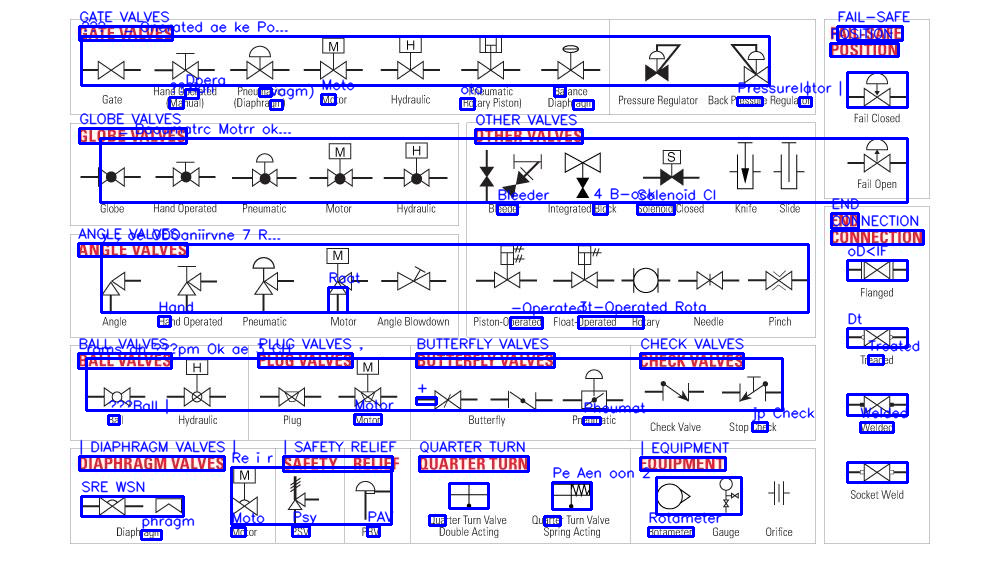Válvula: (382, 140, 449, 191), (472, 241, 539, 292), (307, 140, 374, 190), (165, 355, 228, 408), (336, 357, 399, 409), (551, 243, 616, 293), (323, 244, 370, 313), (301, 34, 365, 82), (458, 35, 522, 82), (378, 35, 442, 81), (563, 368, 626, 412), (640, 147, 702, 190), (250, 255, 295, 314), (230, 151, 298, 190), (845, 136, 910, 176), (227, 44, 292, 82), (846, 70, 908, 109), (539, 44, 603, 81), (501, 151, 546, 200), (561, 148, 604, 199), (175, 264, 219, 313), (152, 159, 220, 189), (379, 264, 449, 293), (726, 139, 763, 193), (153, 50, 217, 81), (720, 374, 786, 404), (285, 473, 322, 526), (771, 140, 807, 194), (729, 42, 772, 86), (227, 465, 261, 520), (746, 265, 810, 294), (100, 270, 143, 313), (353, 476, 393, 520), (415, 387, 480, 414), (78, 164, 144, 190), (79, 58, 144, 84), (676, 268, 741, 294), (79, 493, 145, 518), (644, 42, 683, 84), (845, 258, 910, 283), (489, 388, 556, 412), (620, 266, 673, 296), (843, 325, 909, 349), (84, 385, 149, 409), (642, 380, 707, 404), (258, 385, 323, 408), (845, 394, 909, 416), (845, 461, 909, 483), (448, 480, 490, 510), (550, 481, 592, 510), (655, 483, 691, 511), (479, 148, 496, 203), (717, 476, 741, 513), (766, 478, 792, 508), (153, 494, 185, 516)
